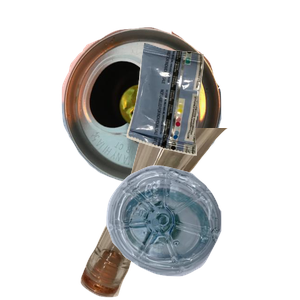glass: (78, 128, 298, 300)
metal: (59, 10, 273, 189)
plastic: (104, 163, 300, 300)
trash: (124, 40, 300, 188)
